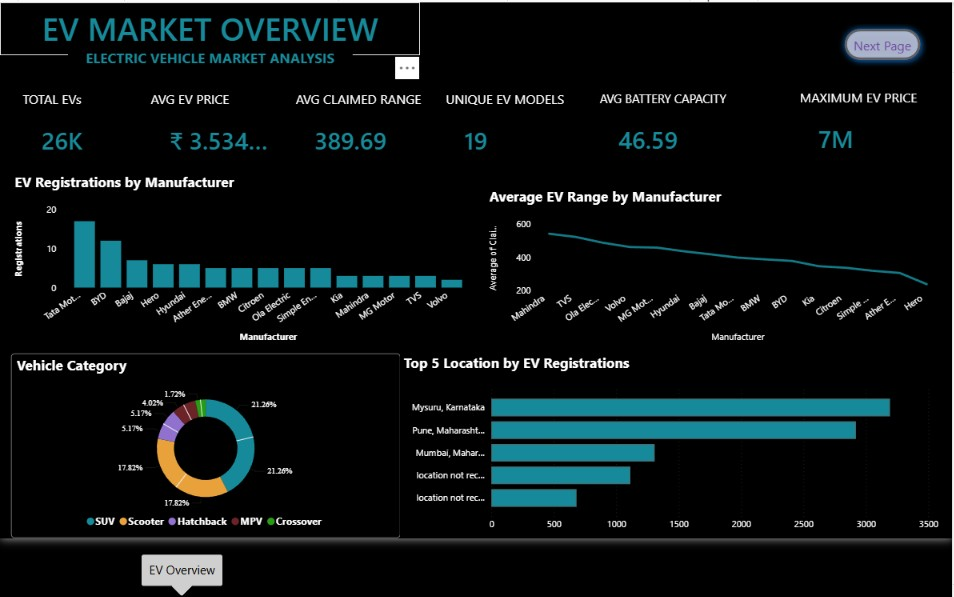

What the dashboard file says about the page in this screenshot:
{"tool":"powerbi","page":{"name":"EV Overview","canvas":[1280,720],"ordinal":0},"visuals":[{"type":"donutChart","title":"Vehicle Category","fields":{"Y":["CountNonNull(EV_Market_Cleaned.Manufacturer)","Count(EV_Market_Cleaned.Record ID)"],"Category":["EV_Market_Cleaned.Vehicle_Category"]},"box":[14.3,471.8,523.1,248],"z":0},{"type":"cardVisual","title":"TOTAL EVs","fields":{"Data":["Sum(EV_Market_Cleaned.Record ID)"]},"box":[25.7,118.3,172.5,119.7],"z":1000},{"type":"cardVisual","title":"AVG EV PRICE","fields":{"Data":["Avg(EV_Market_Cleaned.Exshowroom_price)"]},"box":[198.1,118.3,196.7,119.7],"z":2000},{"type":"cardVisual","title":"AVG CLAIMED RANGE","fields":{"Data":["Avg(EV_Market_Cleaned.Claimed_Range_KM)"]},"box":[392,118.3,202.4,119.7],"z":3000},{"type":"cardVisual","title":"UNIQUE EV MODELS","fields":{"Data":["Count(EV_Market_Cleaned.Vehicle_Model)"]},"box":[594.4,118.3,206.7,119.7],"z":4000},{"type":"cardVisual","title":"AVG BATTERY CAPACITY","fields":{"Data":["Avg(EV_Market_Cleaned.Battery Capacity)"]},"box":[801.1,118.3,203.8,119.7],"z":5000},{"type":"cardVisual","title":"MAXIMUM EV PRICE","fields":{"Data":["Max(EV_Market_Cleaned.Exshowroom_price)"]},"box":[1069,115.5,211,122.6],"z":6000},{"type":"clusteredColumnChart","title":"EV Registrations by Manufacturer","fields":{"Y":["Count(EV_Market_Cleaned.Registration_date)"],"Category":["EV_Market_Cleaned.Manufacturer"]},"box":[14.3,228.1,625.7,233.8],"z":7000},{"type":"clusteredBarChart","title":"Top 5 Location by EV Registrations","fields":{"Category":["EV_Market_Cleaned.Location"],"Y":["Sum(EV_Market_Cleaned.Record ID)"]},"box":[537,472,728,248],"z":8000},{"type":"lineChart","title":"Average EV Range by Manufacturer","fields":{"Y":["Avg(EV_Market_Cleaned.Claimed_Range_KM)"],"Category":["EV_Market_Cleaned.Manufacturer"]},"box":[651.4,246.6,614.3,215.2],"z":9000},{"type":"actionButton","box":[1125.8,26.9,119.6,59.1],"z":10000},{"type":"textbox","box":[0,0,564.5,71.3],"z":11000},{"type":"textbox","box":[91.2,57,382,38.5],"z":12000}]}

Visuals, with their boxes on the page's 1280x720 design canvas (x1, y1, x2, y2). These are canvas units, not pixel positions in the 954x597 screenshot, which may show the page scaled, cropped or inside an application window:
"Vehicle Category" donutChart: {"x1": 14, "y1": 472, "x2": 537, "y2": 720}
"TOTAL EVs" cardVisual: {"x1": 26, "y1": 118, "x2": 198, "y2": 238}
"AVG EV PRICE" cardVisual: {"x1": 198, "y1": 118, "x2": 395, "y2": 238}
"AVG CLAIMED RANGE" cardVisual: {"x1": 392, "y1": 118, "x2": 594, "y2": 238}
"UNIQUE EV MODELS" cardVisual: {"x1": 594, "y1": 118, "x2": 801, "y2": 238}
"AVG BATTERY CAPACITY" cardVisual: {"x1": 801, "y1": 118, "x2": 1005, "y2": 238}
"MAXIMUM EV PRICE" cardVisual: {"x1": 1069, "y1": 116, "x2": 1280, "y2": 238}
"EV Registrations by Manufacturer" clusteredColumnChart: {"x1": 14, "y1": 228, "x2": 640, "y2": 462}
"Top 5 Location by EV Registrations" clusteredBarChart: {"x1": 537, "y1": 472, "x2": 1265, "y2": 720}
"Average EV Range by Manufacturer" lineChart: {"x1": 651, "y1": 247, "x2": 1266, "y2": 462}
actionButton: {"x1": 1126, "y1": 27, "x2": 1245, "y2": 86}
textbox: {"x1": 0, "y1": 0, "x2": 564, "y2": 71}
textbox: {"x1": 91, "y1": 57, "x2": 473, "y2": 96}
